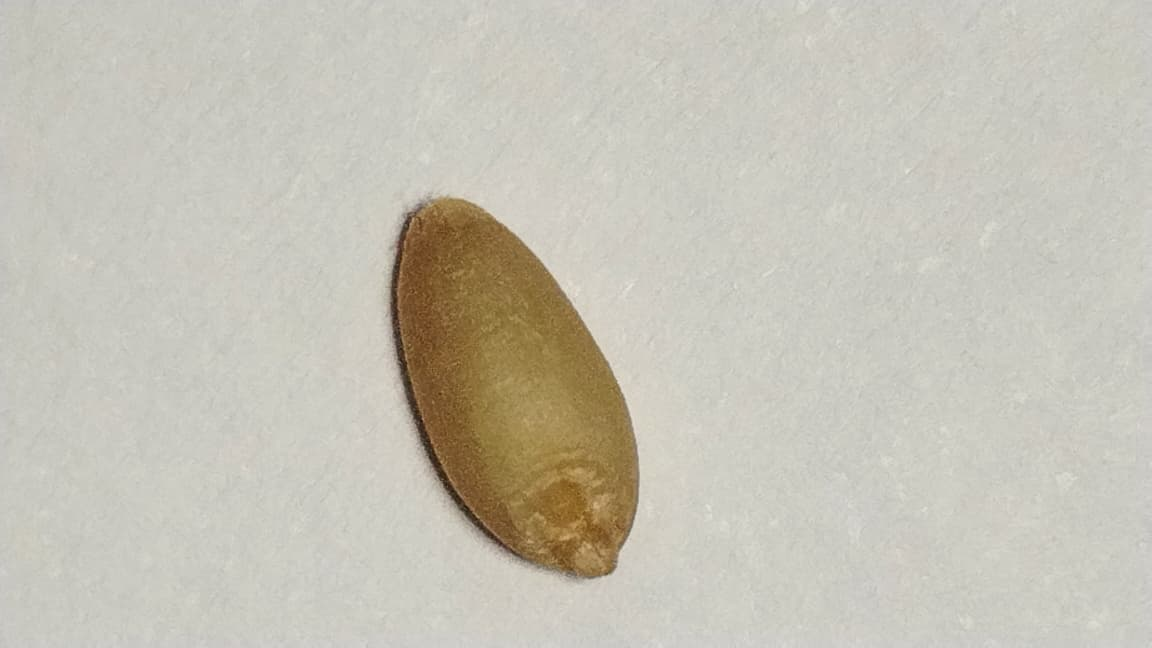healthy: (386, 197, 640, 580)
